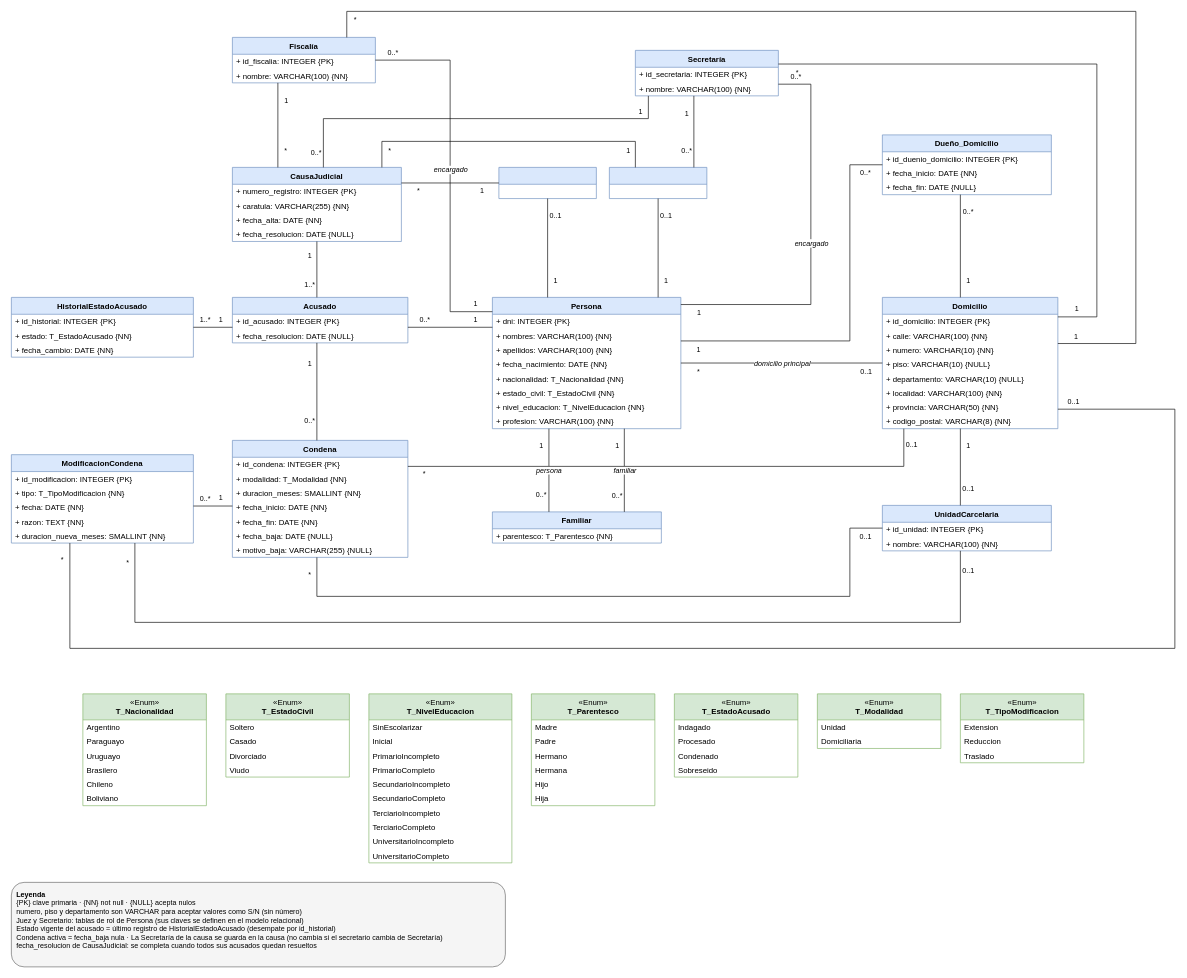
Some shapes in this 1187 by 978 pixel diagram are drawn without their labels. Here are the shapes that lost their labels. From the top down, the centre of each, then its label:
At (547,183): "Juez".
At (658,183): "Secretario".
